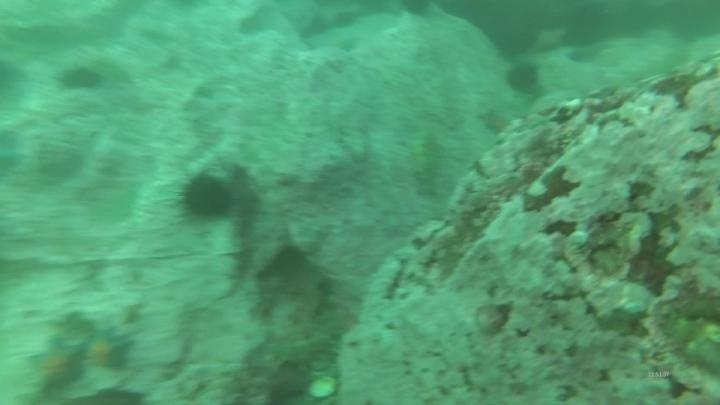echinus: (175, 170, 237, 224), (559, 3, 612, 50), (55, 62, 106, 95), (503, 60, 542, 96), (398, 1, 436, 21)
holothurian: (259, 329, 339, 371), (405, 128, 447, 201)
starfish: (22, 334, 90, 398), (80, 325, 136, 375), (478, 107, 513, 137)
